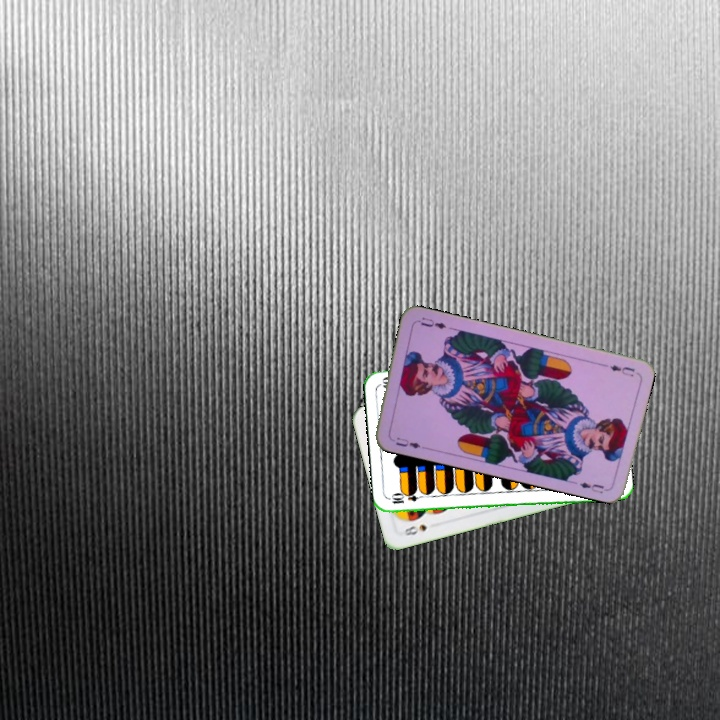E10: (388, 491, 428, 506)
EU: (598, 360, 637, 379), (392, 433, 427, 453)
S8: (398, 520, 430, 539)
